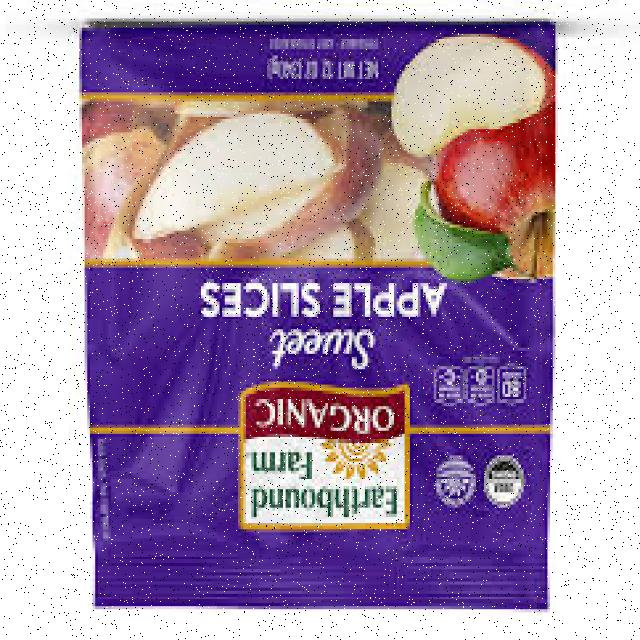Apple: (129, 117, 357, 236), (381, 32, 555, 154), (433, 129, 555, 281), (226, 140, 378, 242), (84, 103, 151, 174)
